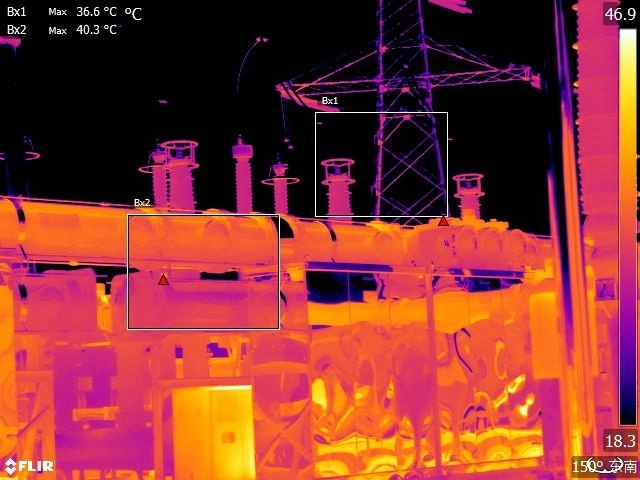lightning arrester: (262, 154, 299, 218), (136, 142, 173, 205)
potential transformer: (229, 133, 256, 212)
tube: (164, 136, 203, 209), (321, 153, 359, 221), (450, 168, 486, 217)
